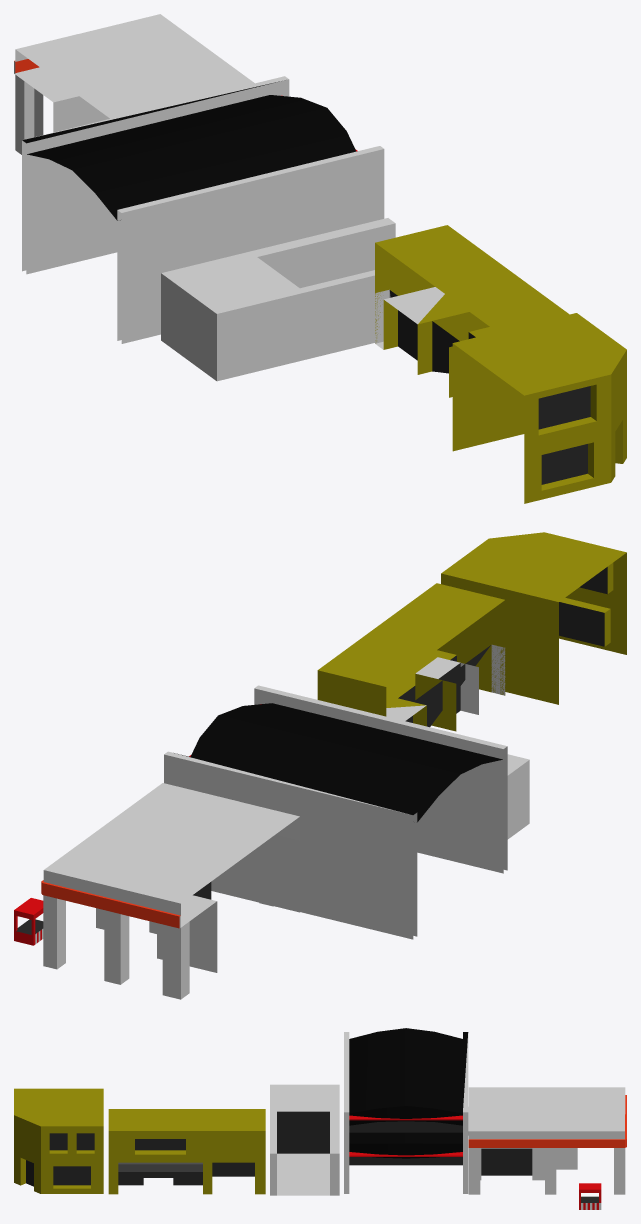
File: Edificio-3-Derecha.fbx
3 renders of one model, top to bottom at view 1: azimuth 30°, elevation 25°; view 2: azimuth 150°, elevation 25°; view 3: azimuth 270°, elevation 25°, orthographic. The views are drawn at different scales.
Visible parts, largest first — view 1: Plane; view 2: Plane; view 3: Plane.
Boxes of the visible parts, x1,y1,x2,y2 form: Plane: (14,14,626,503); Plane: (14,532,626,999); Plane: (14,1028,626,1209).
Bounding box in the file's own units: 3037 × 1294 × 8213.
